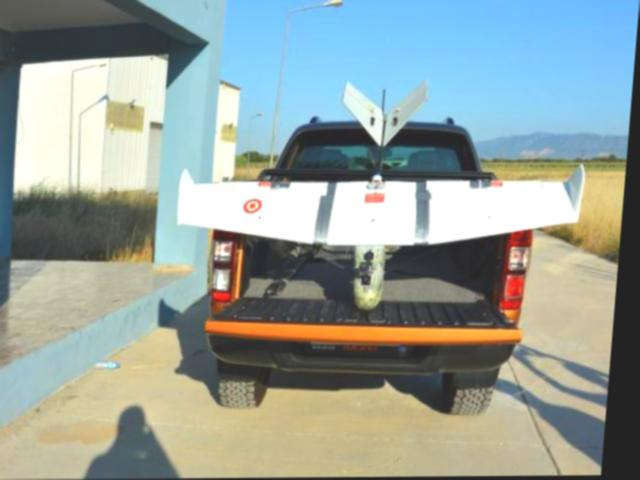iha: (153, 70, 608, 312)
